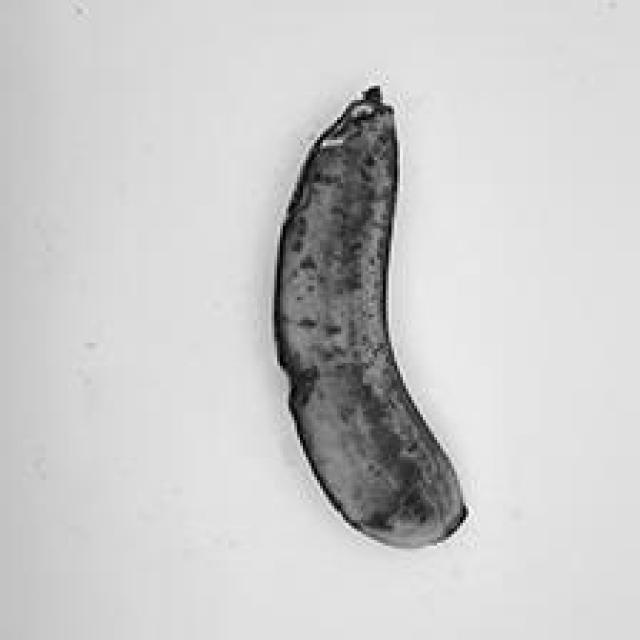Overripe: (211, 34, 498, 574)
